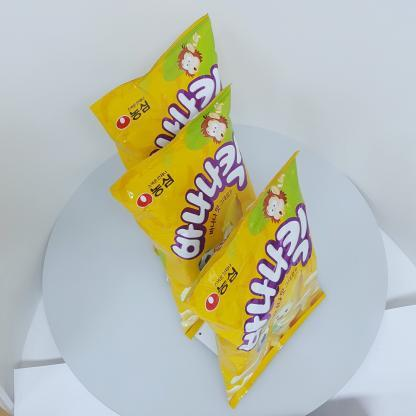Plastic Packaging: (190, 156, 330, 412), (126, 86, 230, 288)
